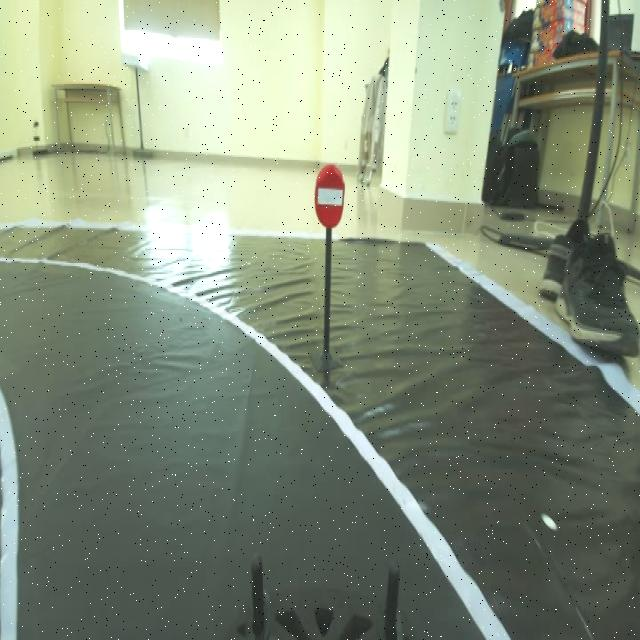no_entry: (310, 156, 350, 227)
